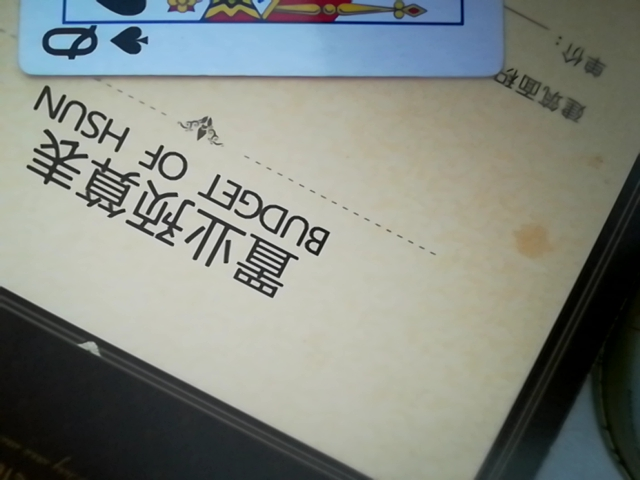ht q: (19, 1, 522, 78)
